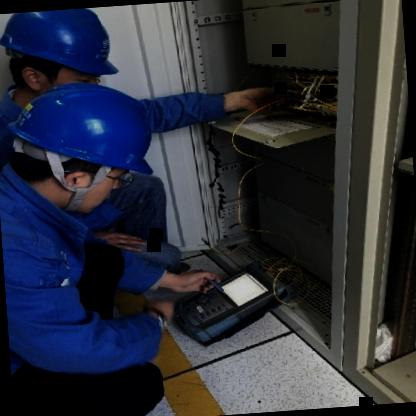helmet: (0, 64, 165, 222), (0, 5, 131, 126)
